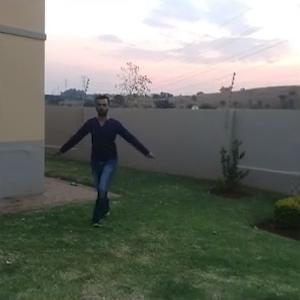land: (63, 90, 160, 214)
